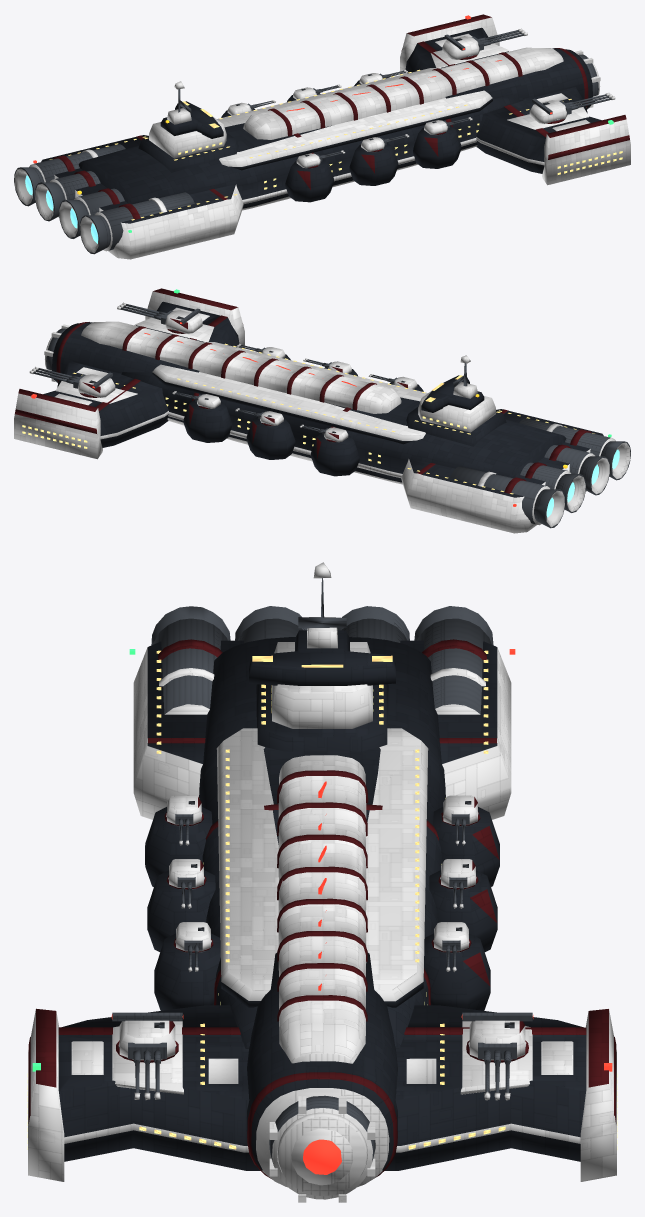
File: colossus_production_v1_lod2.glb
3 views of the same model, one above another, from view 1: azimuth 30°, elevation 25°; view 2: azimuth 150°, elevation 25°; view 3: azimuth 270°, elevation 25° (orthographic). The views are drawn at different scales.
Parts seen in each view (by area): view 1: LOD0_Armor, LOD0_Hull, LOD0_Mechanical, LOD0_Livery, LOD0_MechanicalDark, LOD0_Lights_Warm, LOD0_HOOK_ARMOR_PORT_Armor, LOD0_HOOK_DRIVE_CORE; view 2: LOD0_Armor, LOD0_Hull, LOD0_Mechanical, LOD0_Livery, LOD0_MechanicalDark, LOD0_Lights_Warm, LOD0_HOOK_ARMOR_PORT_Armor, LOD0_HOOK_DRIVE_CORE; view 3: LOD0_Hull, LOD0_Armor, LOD0_Mechanical, LOD0_Livery, LOD0_MechanicalDark, LOD0_Lights_Warm, LOD0_HOOK_ARMOR_PORT_Armor, LOD0_HOOK_NAV_PORT.
Part boxes in pixels (x1,y1,x2,y2): LOD0_Armor: [54, 17, 630, 259]; LOD0_Hull: [41, 27, 601, 223]; LOD0_Mechanical: [14, 30, 611, 254]; LOD0_Livery: [53, 14, 629, 219]; LOD0_MechanicalDark: [14, 28, 615, 252]; LOD0_Lights_Warm: [49, 69, 622, 220]; LOD0_HOOK_ARMOR_PORT_Armor: [430, 43, 510, 67]; LOD0_HOOK_DRIVE_CORE: [25, 175, 98, 243]; LOD0_Armor: [14, 291, 590, 533]; LOD0_Hull: [43, 301, 603, 497]; LOD0_Mechanical: [33, 304, 630, 528]; LOD0_Livery: [15, 288, 591, 493]; LOD0_MechanicalDark: [29, 302, 630, 527]; LOD0_Lights_Warm: [22, 343, 594, 494]; LOD0_HOOK_ARMOR_PORT_Armor: [56, 379, 137, 403]; LOD0_HOOK_DRIVE_CORE: [546, 449, 619, 517]; LOD0_Hull: [58, 630, 586, 1170]; LOD0_Armor: [28, 617, 616, 1202]; LOD0_Mechanical: [112, 606, 532, 1163]; LOD0_Livery: [28, 639, 616, 1178]; LOD0_MechanicalDark: [118, 704, 526, 1199]; LOD0_Lights_Warm: [27, 650, 617, 1149]; LOD0_HOOK_ARMOR_PORT_Armor: [460, 1021, 532, 1094]; LOD0_HOOK_NAV_PORT: [111, 649, 612, 1174].
Size of what is drawn, in the model's own units: 53.5 by 12.03 by 25.64.
10 materials, 5 textured.
